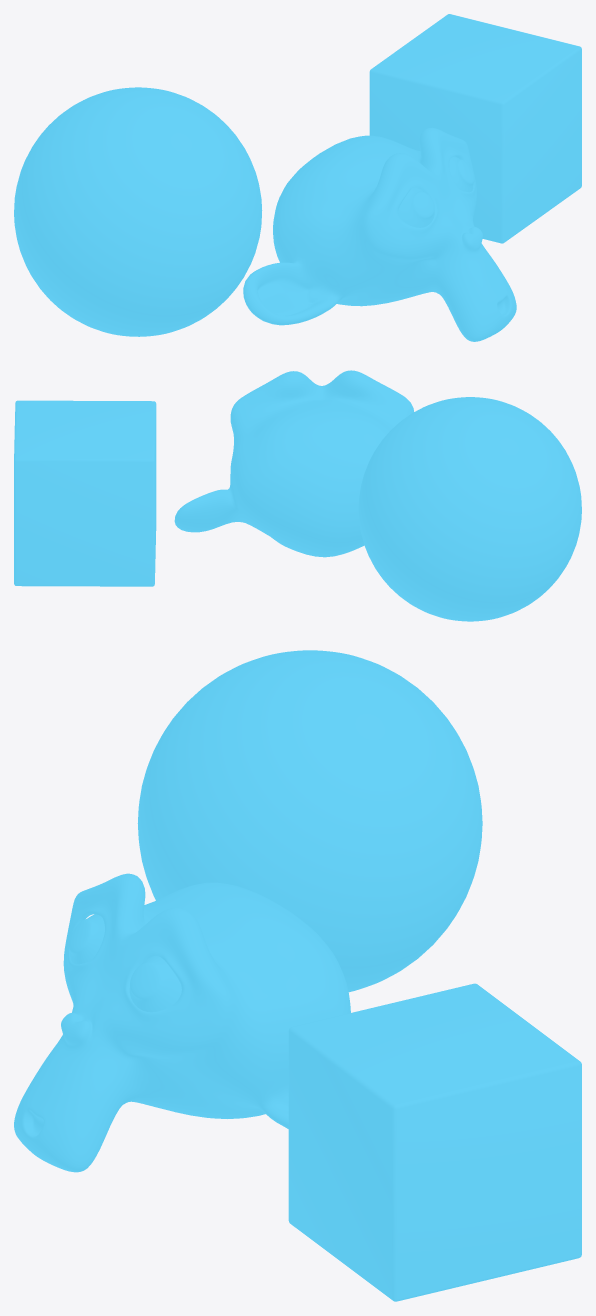
The model's file is demo.glb.
3 views of the same model, one above another, from view 1: azimuth 30°, elevation 25°; view 2: azimuth 150°, elevation 25°; view 3: azimuth 270°, elevation 25° (orthographic). The views are drawn at different scales.
Parts seen in each view (by area): view 1: Material_Test; view 2: Material_Test; view 3: Material_Test.
Boxes of the visible parts, x1,y1,x2,y2 form: Material_Test: [14, 14, 581, 341]; Material_Test: [14, 370, 581, 621]; Material_Test: [14, 650, 581, 1301].
Size of what is drawn, in the model's own units: 5.34 by 2 by 3.25.
